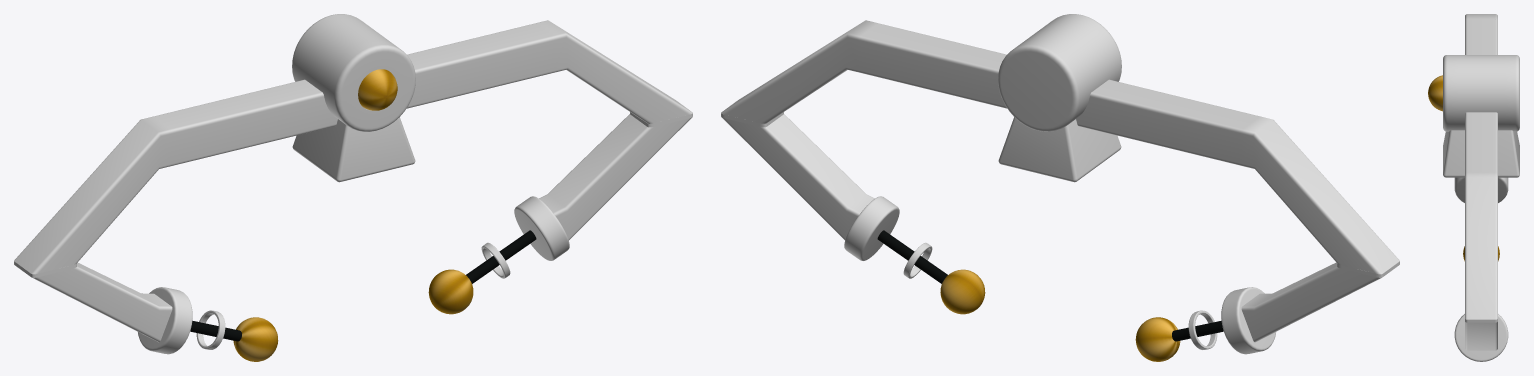
File: dron2.fbx
3 views of the same model, side by side, from view 1: azimuth 30°, elevation 25°; view 2: azimuth 150°, elevation 25°; view 3: azimuth 270°, elevation 25° (orthographic). The views are drawn at different scales.
Parts seen in each view (by area): view 1: Box015, Box018, Cuerpo001, Box017, Box016, Propulsor001, Box019, Cylinder021, Cylinder023, Sphere008, Sphere009, Lente003 (+2 smaller); view 2: Box015, Cuerpo001, Box018, Box017, Box016, Propulsor001, Box019, Cylinder021, Cylinder023, Sphere008, Sphere009, Cylinder022 (+2 smaller); view 3: Cuerpo001, Box016, Box015, Propulsor001, Box017, Cylinder021, Cylinder023, Lente003, Box018.
Part boxes in pixels (x1,y1,x2,y2): Box015: [153, 23, 554, 165]; Box018: [14, 116, 172, 274]; Cuerpo001: [292, 14, 415, 131]; Box017: [539, 112, 692, 240]; Box016: [536, 20, 692, 123]; Propulsor001: [292, 117, 415, 182]; Box019: [14, 261, 172, 342]; Cylinder021: [514, 196, 569, 260]; Cylinder023: [138, 287, 192, 354]; Sphere008: [428, 269, 473, 314]; Sphere009: [233, 317, 278, 361]; Lente003: [358, 69, 397, 110]; Box015: [859, 23, 1260, 165]; Cuerpo001: [998, 14, 1121, 131]; Box018: [1241, 116, 1399, 274]; Box017: [721, 112, 874, 240]; Box016: [721, 20, 877, 123]; Propulsor001: [998, 117, 1121, 182]; Box019: [1241, 261, 1399, 342]; Cylinder021: [844, 196, 899, 260]; Cylinder023: [1221, 287, 1275, 354]; Sphere008: [940, 269, 985, 314]; Sphere009: [1135, 317, 1180, 361]; Cylinder022: [877, 230, 947, 283]; Cuerpo001: [1443, 55, 1519, 131]; Box016: [1465, 172, 1497, 319]; Box015: [1465, 19, 1497, 173]; Propulsor001: [1443, 130, 1519, 177]; Box017: [1465, 319, 1497, 350]; Cylinder021: [1454, 314, 1508, 361]; Cylinder023: [1454, 177, 1508, 202]; Lente003: [1428, 75, 1442, 111]; Box018: [1465, 14, 1497, 19].
Size of the model in its own units: 1039 by 458 by 152.
4 materials, 2 textured.
